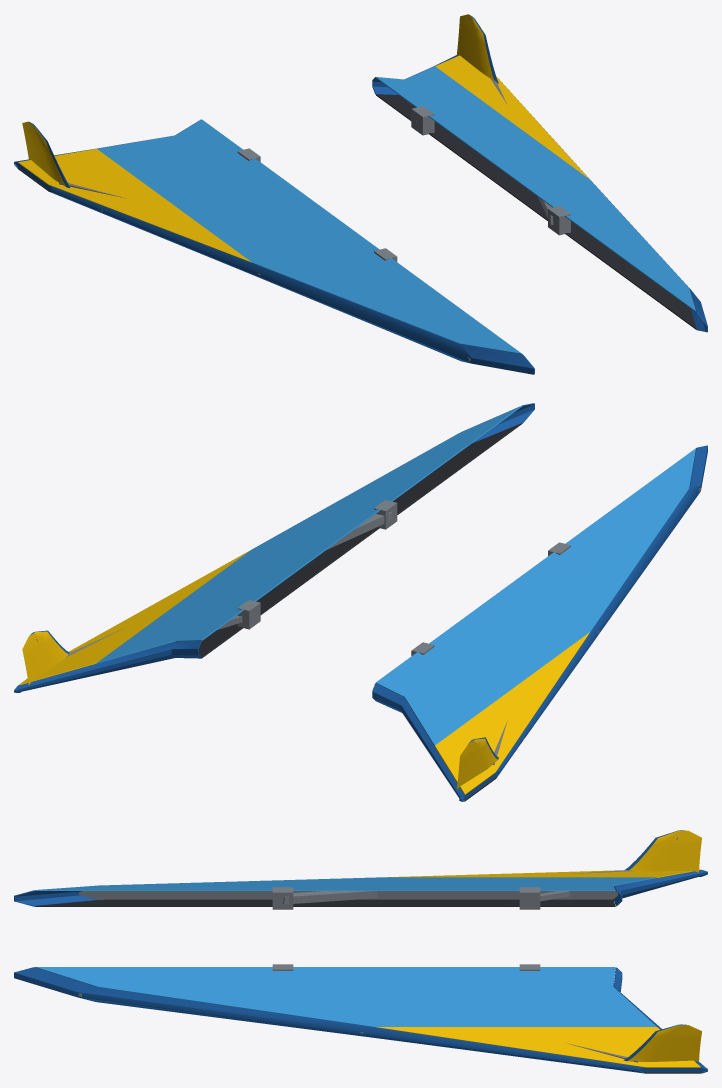
The model's file is strix_wing_blade.fbx.
3 views of the same model, one above another, from view 1: azimuth 30°, elevation 25°; view 2: azimuth 150°, elevation 25°; view 3: azimuth 270°, elevation 25° (orthographic). The views are drawn at different scales.
Parts seen in each view (by area): view 1: Wing_Top_L.001, Wing_Top_R.001, Wing_LE_L.001, Wing_Bottom_R.001, Wing_Blade_Extra_R, Wing_Structure_R.001, Wing_Blade_Extra_L; view 2: Wing_Top_L.001, Wing_Top_R.001, Wing_Bottom_R.001, Wing_LE_L.001, Wing_TE_R.001, Wing_Structure_R.001, Wing_TE_L.001, Wing_Blade_Extra_R, Wing_Blade_Extra_L, Wing_LE_R.001; view 3: Wing_Top_R.001, Wing_Top_L.001, Wing_LE_R.001, Wing_Structure_L.001, Wing_Bottom_L.001, Wing_Blade_Extra_L, Wing_Blade_Extra_R, Wing_TE_L.001, Wing_LE_L.001, Wing_Structure_R.001.
Boxes of the visible parts, bbox=[...] form: Wing_Top_L.001: bbox=[18, 119, 521, 354]; Wing_Top_R.001: bbox=[375, 55, 695, 311]; Wing_LE_L.001: bbox=[49, 185, 534, 374]; Wing_Bottom_R.001: bbox=[376, 94, 696, 329]; Wing_Blade_Extra_R: bbox=[457, 14, 498, 83]; Wing_Structure_R.001: bbox=[411, 79, 570, 235]; Wing_Blade_Extra_L: bbox=[22, 121, 70, 187]; Wing_Top_L.001: bbox=[376, 448, 695, 794]; Wing_Top_R.001: bbox=[18, 405, 522, 685]; Wing_Bottom_R.001: bbox=[139, 423, 522, 665]; Wing_LE_L.001: bbox=[496, 445, 707, 777]; Wing_TE_R.001: bbox=[14, 640, 201, 692]; Wing_Structure_R.001: bbox=[66, 500, 397, 657]; Wing_TE_L.001: bbox=[372, 683, 464, 801]; Wing_Blade_Extra_R: bbox=[22, 630, 69, 684]; Wing_Blade_Extra_L: bbox=[457, 737, 498, 789]; Wing_LE_R.001: bbox=[472, 403, 534, 443]; Wing_Top_R.001: bbox=[35, 967, 701, 1067]; Wing_Top_L.001: bbox=[35, 869, 700, 890]; Wing_LE_R.001: bbox=[14, 967, 644, 1073]; Wing_Structure_L.001: bbox=[78, 870, 634, 909]; Wing_Bottom_L.001: bbox=[35, 893, 618, 906]; Wing_Blade_Extra_L: bbox=[624, 830, 701, 872]; Wing_Blade_Extra_R: bbox=[623, 1024, 701, 1061]; Wing_TE_L.001: bbox=[614, 870, 707, 906]; Wing_LE_L.001: bbox=[14, 890, 103, 906]; Wing_Structure_R.001: bbox=[78, 964, 638, 1062].
Size of the model in its own units: 227 by 26.03 by 336.
